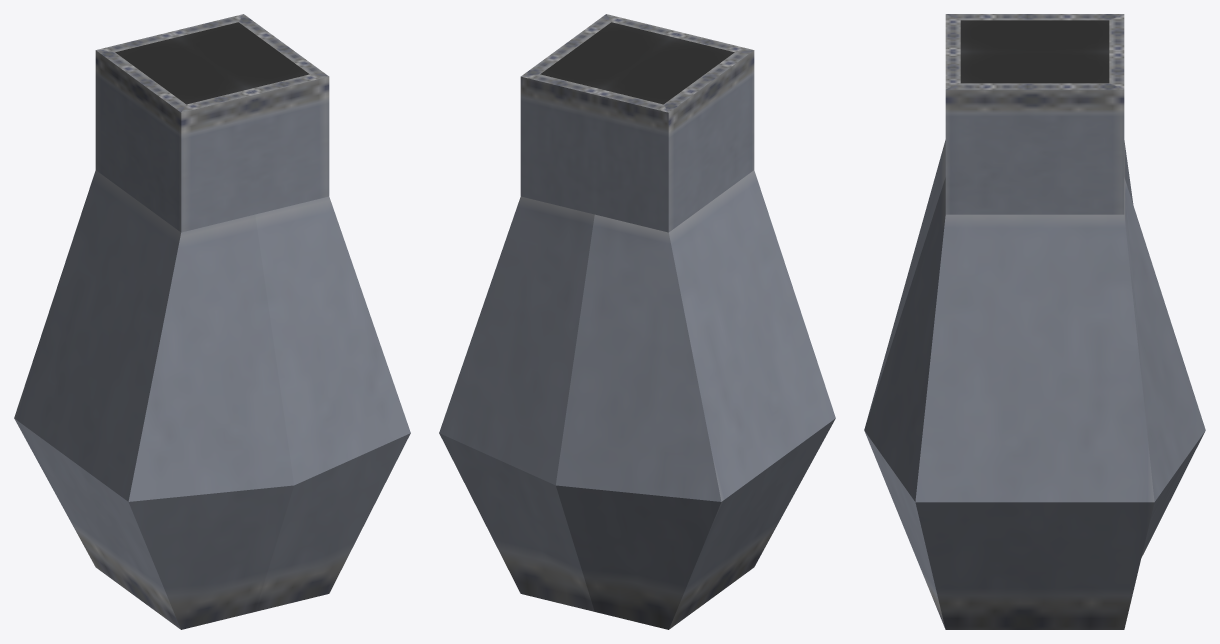
File: Vase.fbx
The picture shows the model from 3 angles, left to right: view 1: azimuth 30°, elevation 25°; view 2: azimuth 150°, elevation 25°; view 3: azimuth 270°, elevation 25°; orthographic projection. The views are drawn at different scales.
Visible parts, largest first — view 1: Cube; view 2: Cube; view 3: Cube.
Part boxes in pixels (left/top/right/bottom): Cube: left=14, top=14, right=410, bottom=629; Cube: left=439, top=14, right=835, bottom=629; Cube: left=864, top=14, right=1205, bottom=629.
Size of the model in its own units: 381 by 667 by 382.
Materials: 1 (1 with a texture image).
